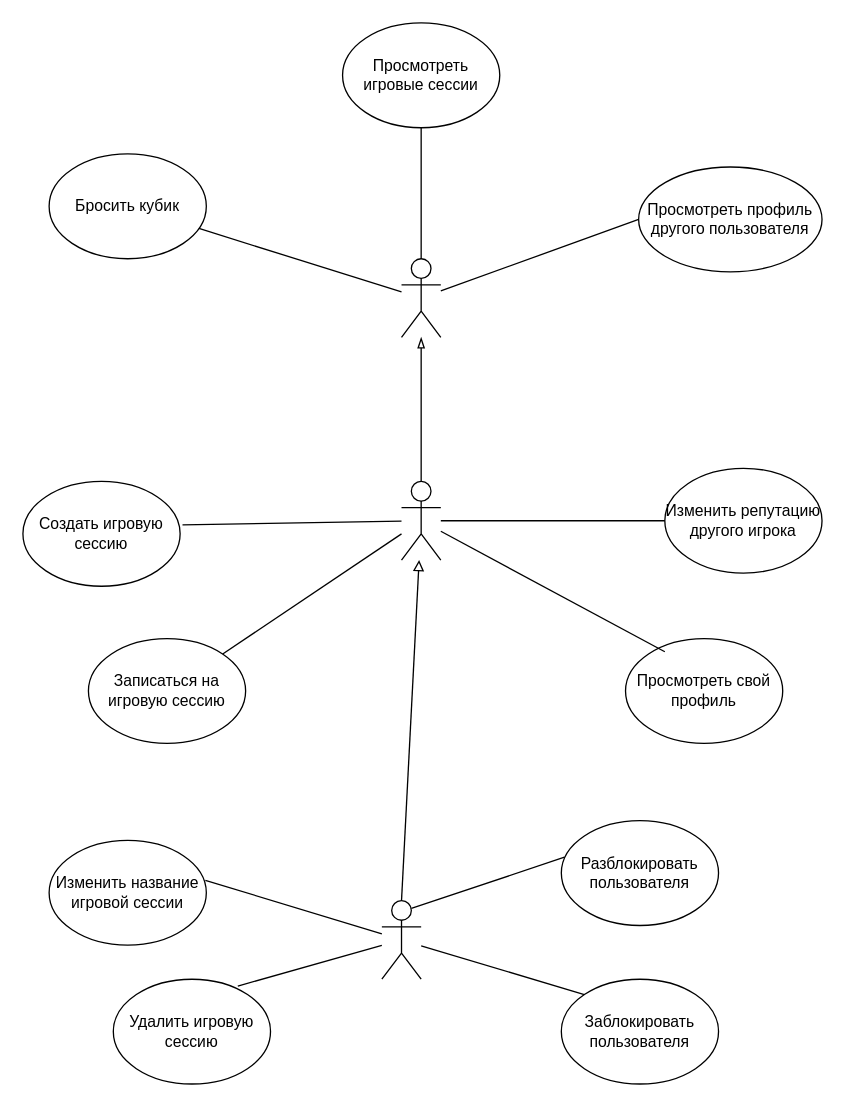
The diagram is 845 pixels wide and 1107 high, and some of its shapes have lost their labels. Each missing label, with the centre of its shape:
"Авторизованный пользователь" belongs at [420,520].
"Администратор" belongs at [401,939].
"Неавторизованный пользователь" belongs at [420,297].
